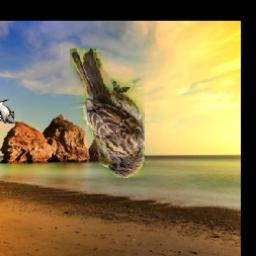Sparrow: (70, 49, 145, 179)
Woodpecker: (0, 100, 14, 125)
